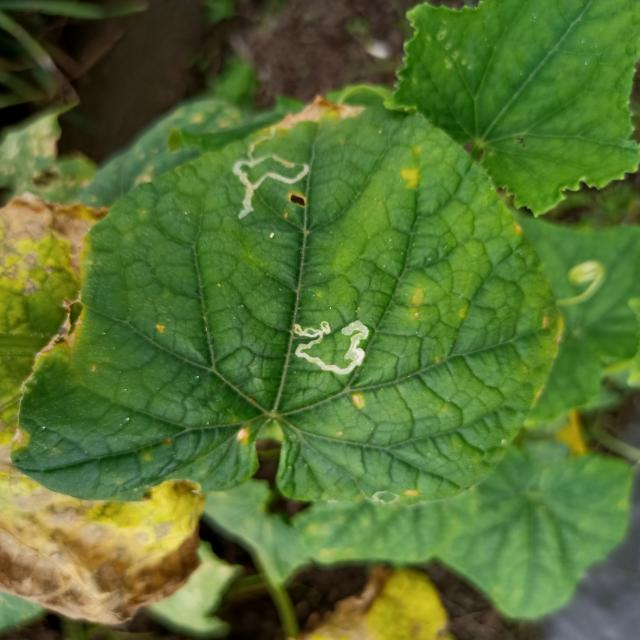disease_cucumber: (400, 140, 426, 192), (538, 308, 569, 346), (405, 284, 426, 322), (232, 424, 251, 446), (348, 392, 364, 410), (404, 484, 421, 499), (152, 321, 167, 335)
